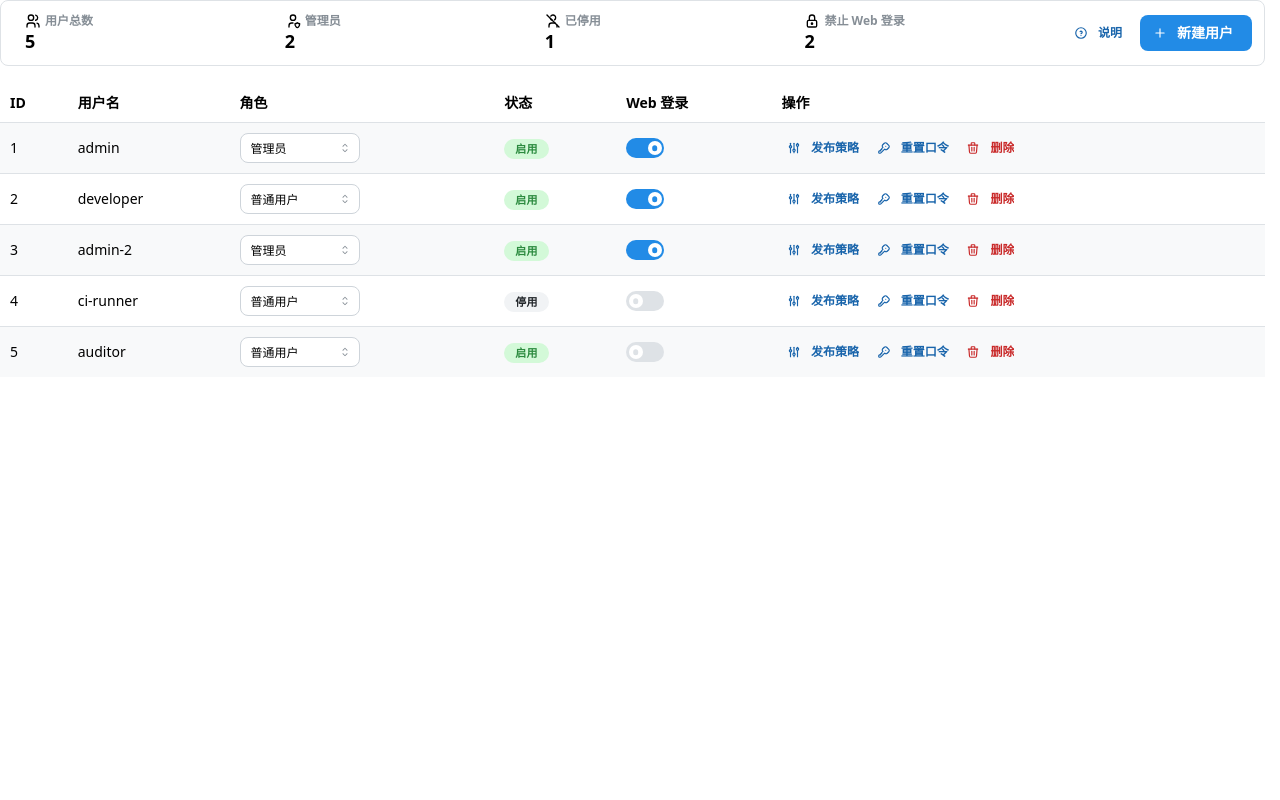
Test: 用户管理 › 新建用户后列表出现该用户
Expected: the text "admin" is shown, [78,138,120,157]
Step 1. Click the button "新建用户" → (1196, 33), box [1140,15,1252,51]
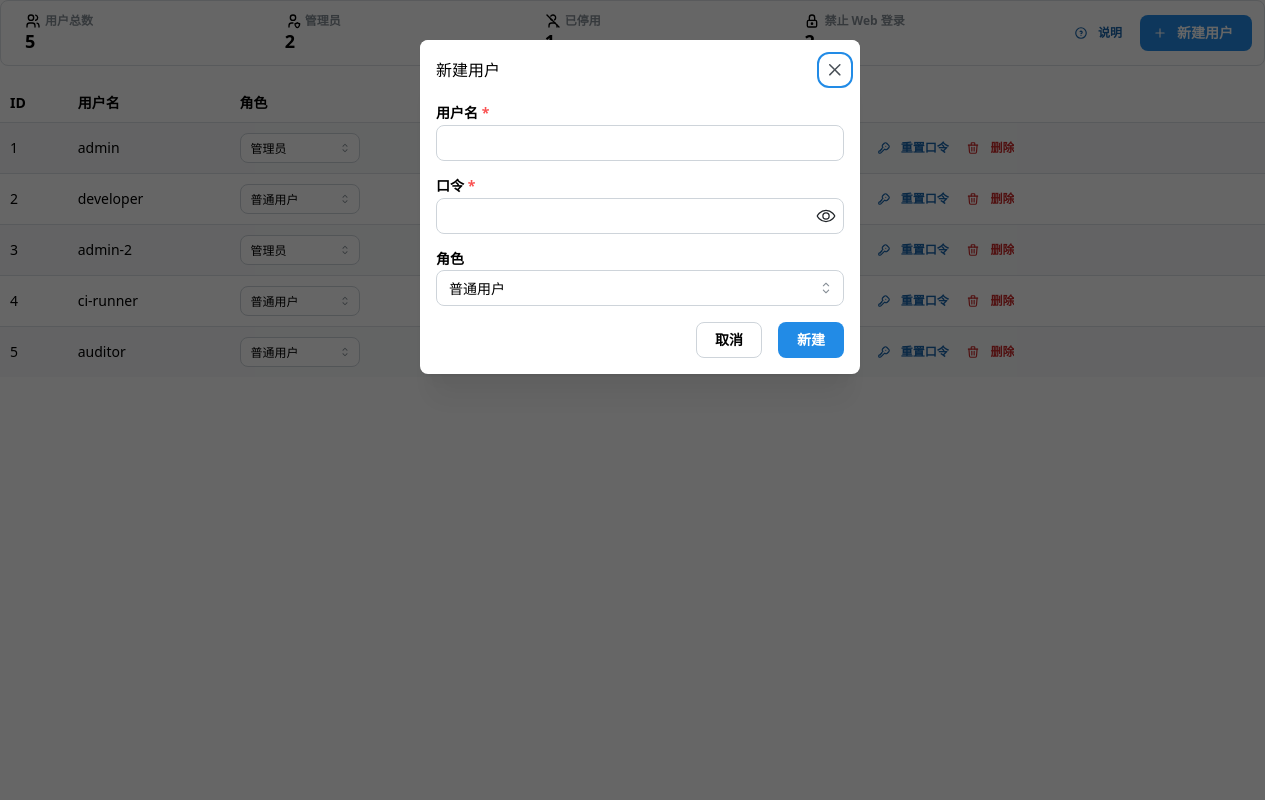
Step 2. Type "tester" into the field labelled "用户名 *" → (640, 143), box [436,125,844,161]
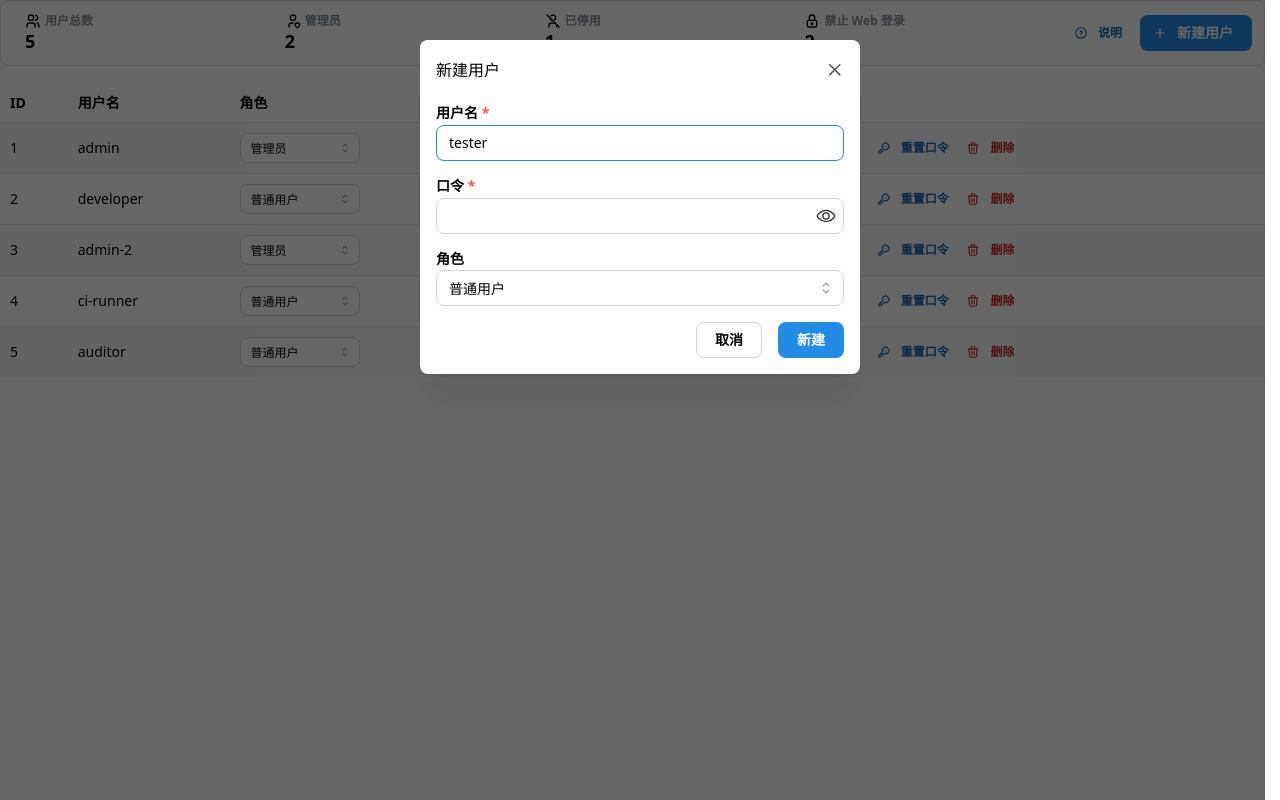
Step 3. Type "password1" into the password field labelled "口令 *" → (640, 216), box [437,199,843,233]
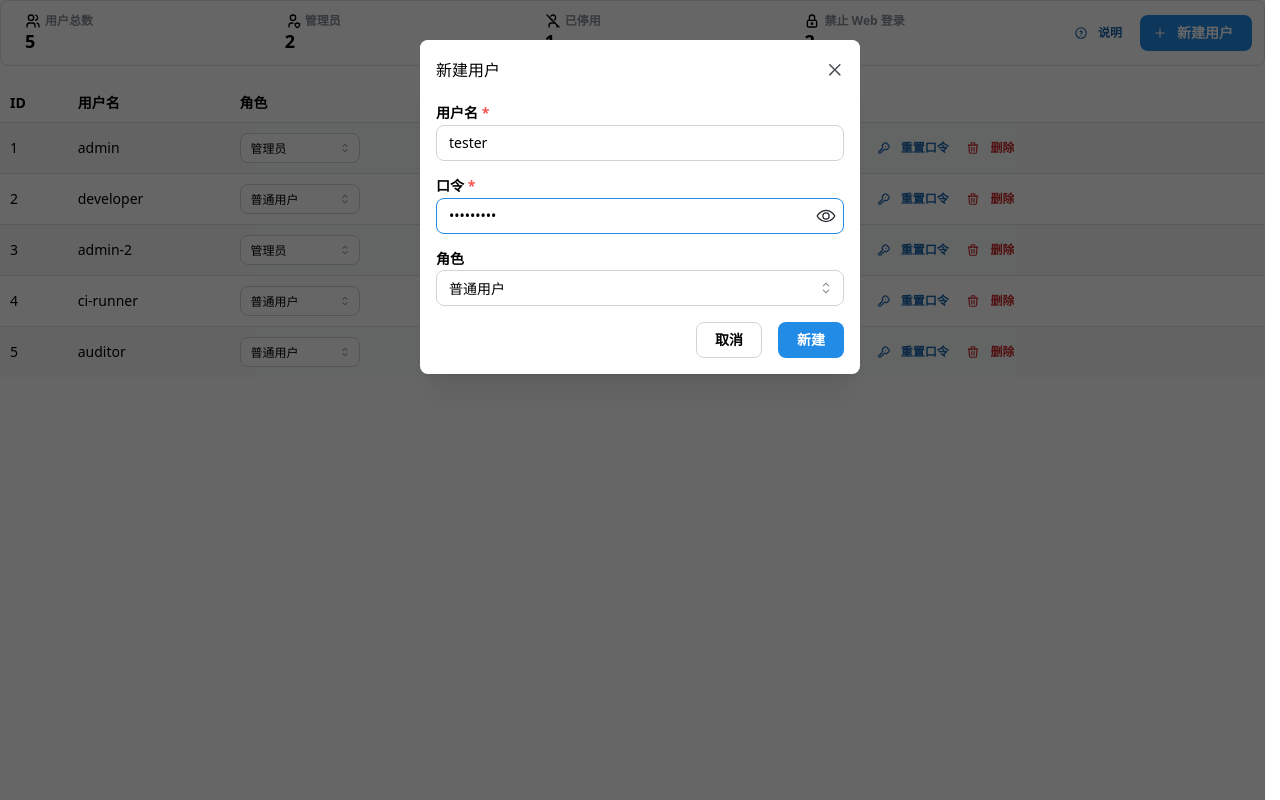
Step 4. Click the button "新建" → (811, 340), box [778,322,844,358]
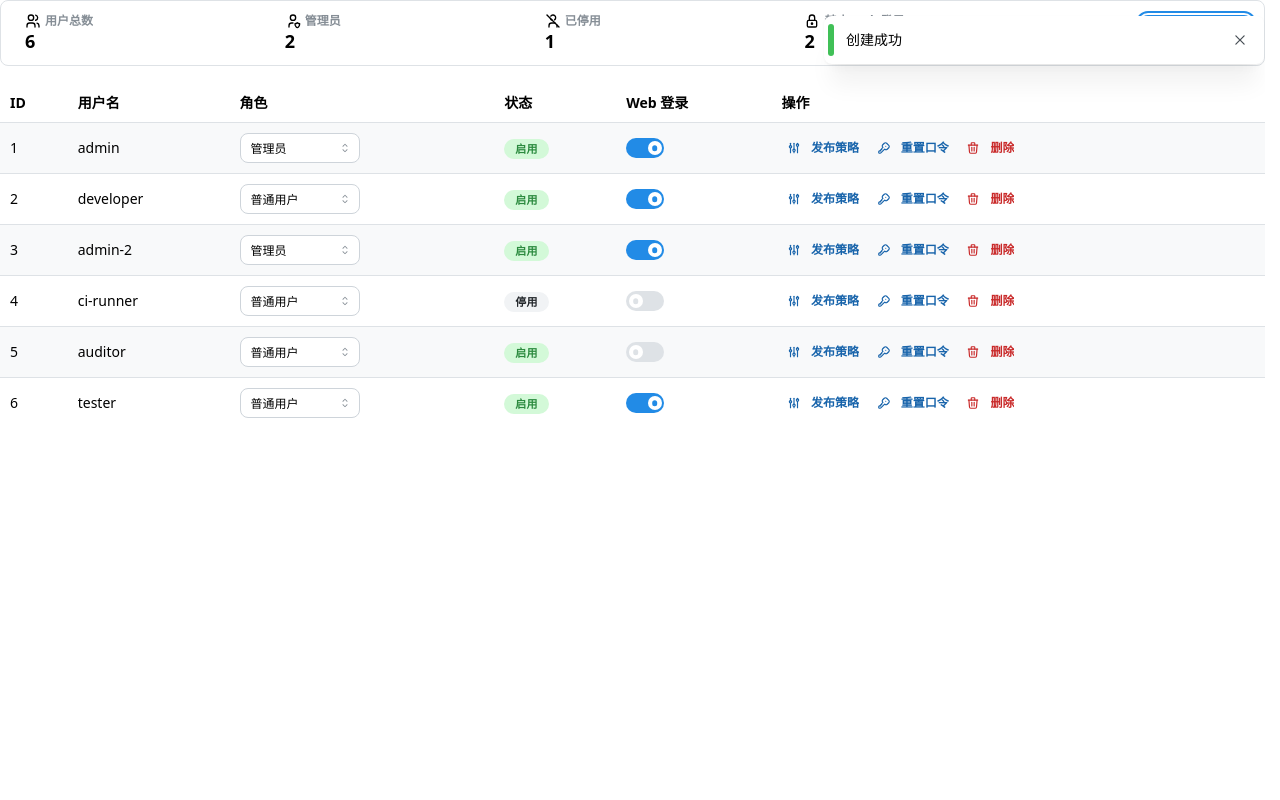
Now the text "tester" is shown, box [78,393,116,412]
